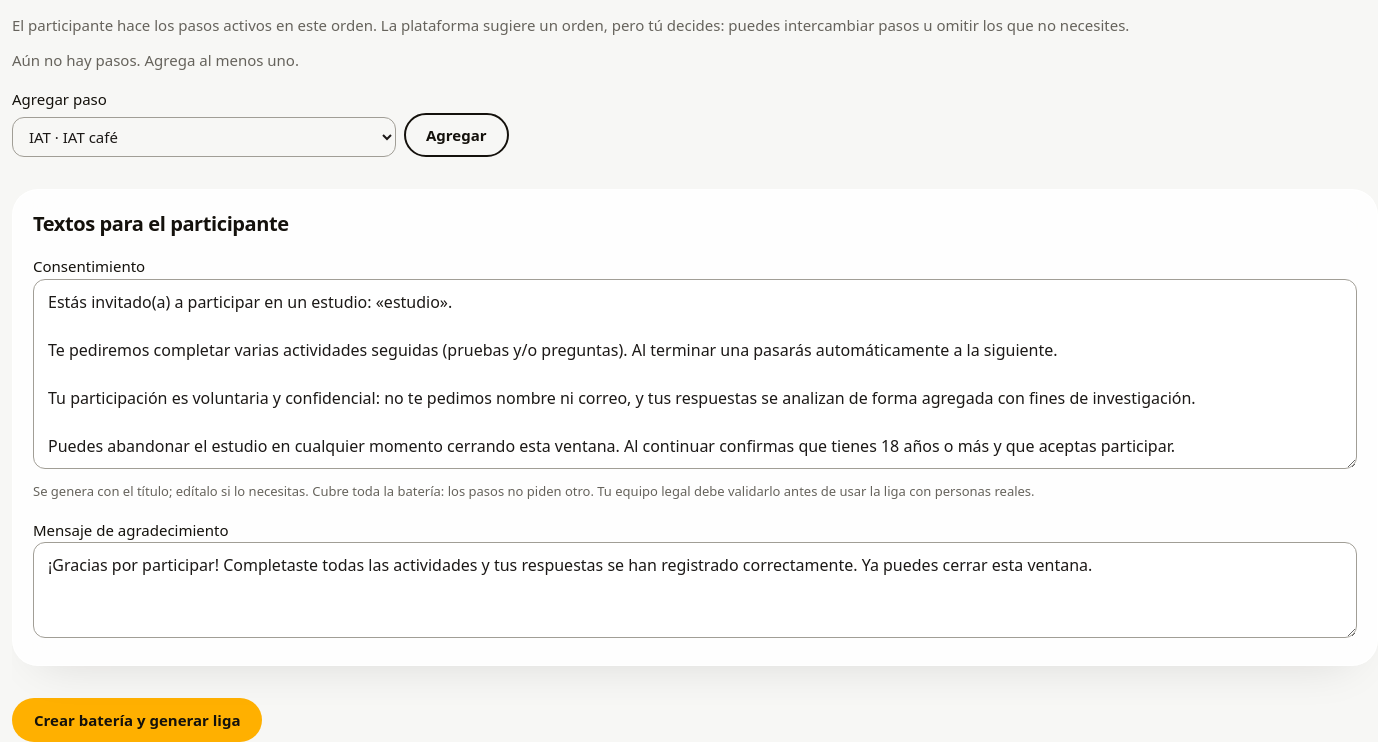
BatteryBuilder › no envía nada y explica qué falta cuando el formulario está incompleto
(page scrolled)
Step 1. Click the button "Crear batería y generar liga" → {"x": 137, "y": 720}, box [12,698,262,741]
(page scrolled)
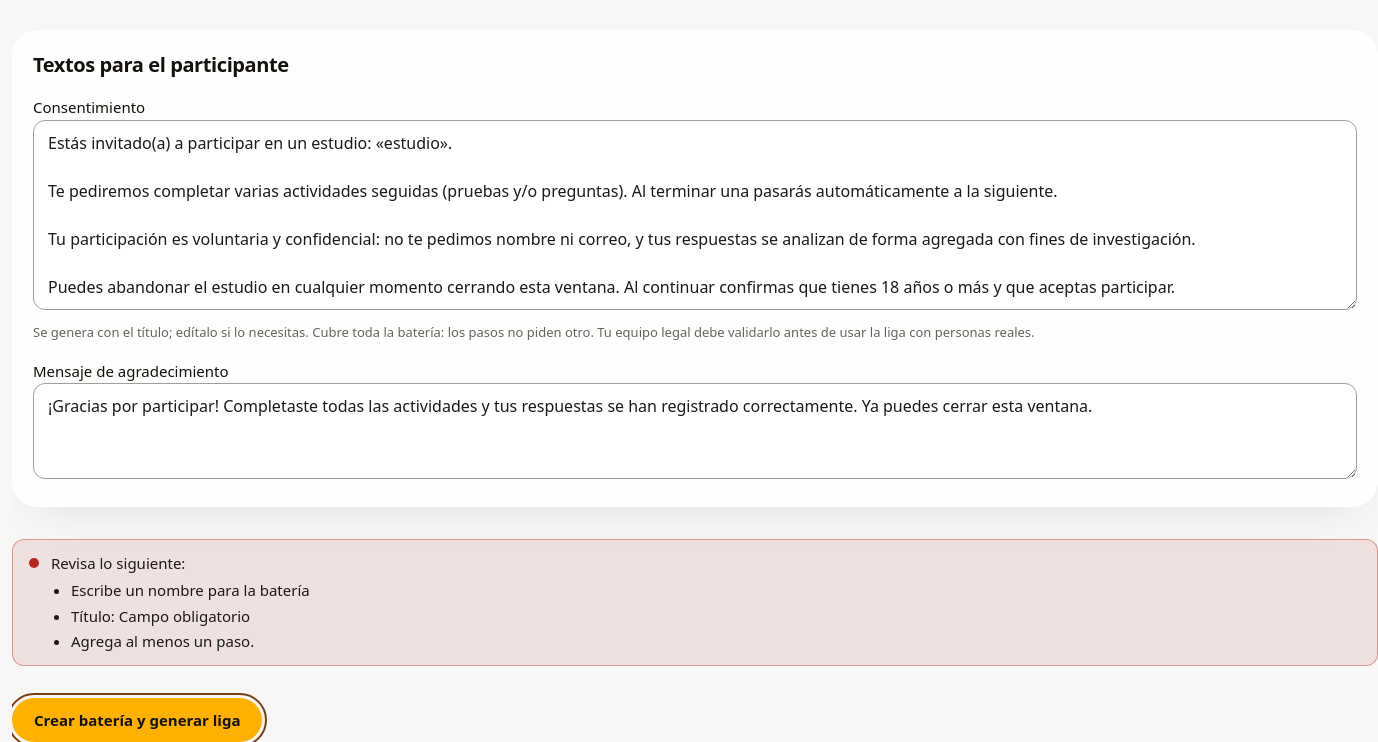
Now the text "Revisa lo siguiente:" is shown, box [51,553,185,573]
Now the list item "Escribe un nombre para la batería" is shown, box [71,579,310,603]
